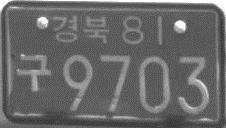0: (138, 55, 173, 115)
1: (153, 14, 167, 45)
3: (175, 54, 209, 115)
7: (96, 51, 131, 118)
8: (121, 15, 145, 46)
9: (60, 53, 95, 113)
경북_O: (50, 14, 109, 43)
구: (14, 53, 53, 94)
